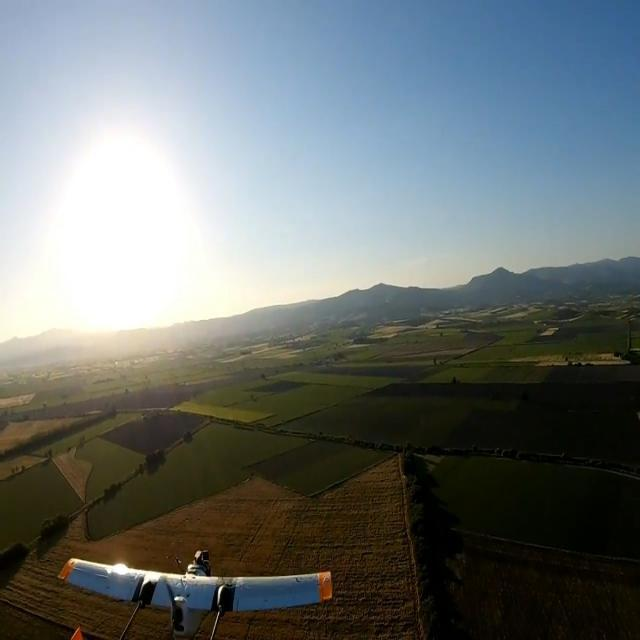iha: (50, 576, 339, 608)
